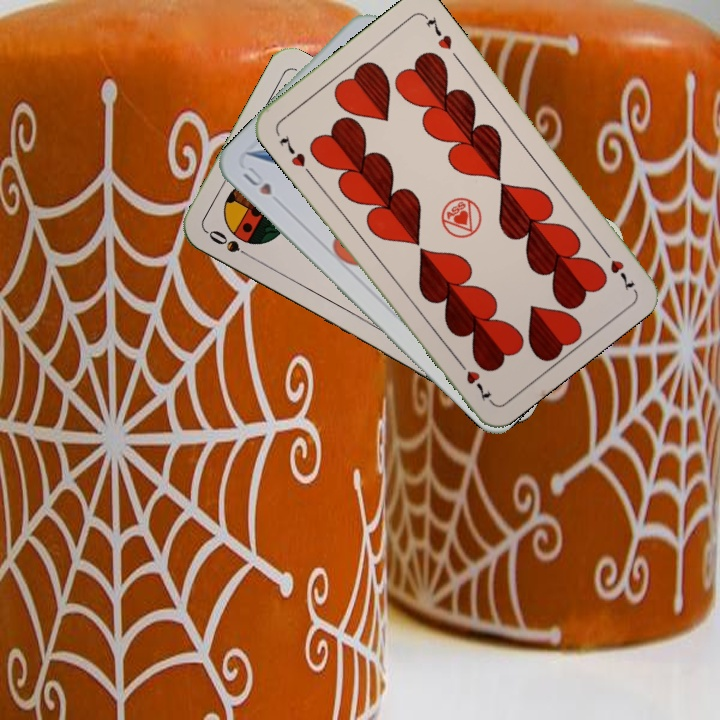H7: (597, 242, 637, 293), (275, 131, 315, 178)
HU: (238, 162, 275, 198)
SO: (203, 226, 257, 263)
